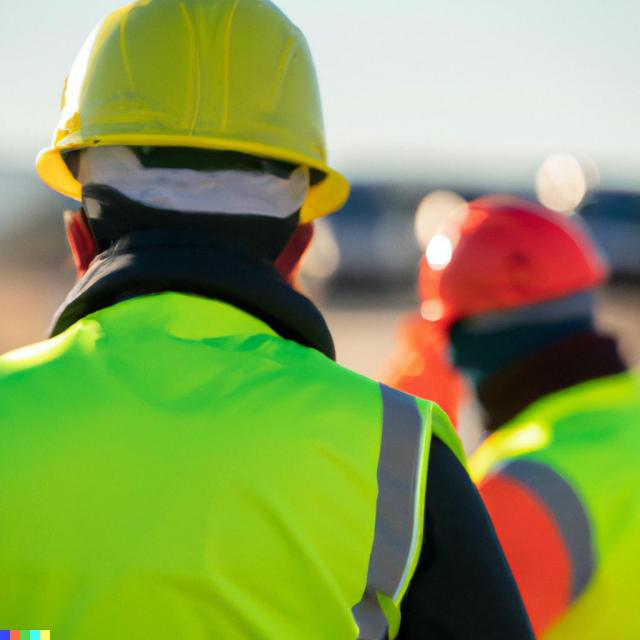Reflective-Jacket: (0, 288, 458, 640), (463, 376, 636, 638)
Safety-Helmet: (32, 3, 358, 215)
